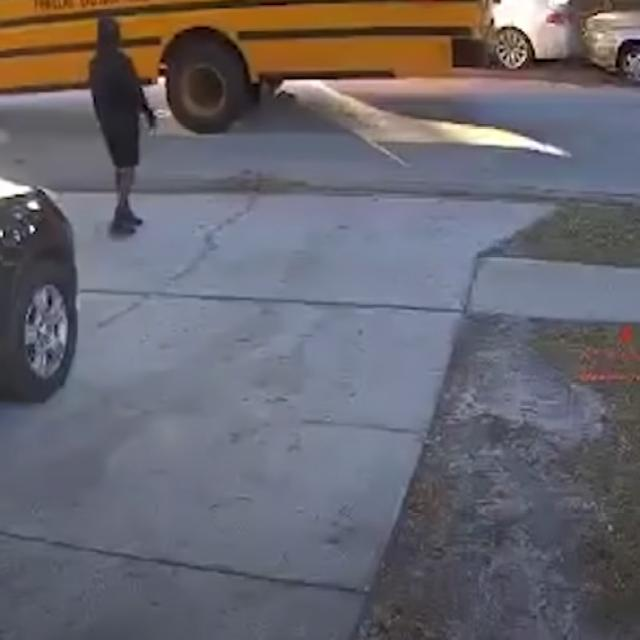person: (89, 14, 155, 234)
